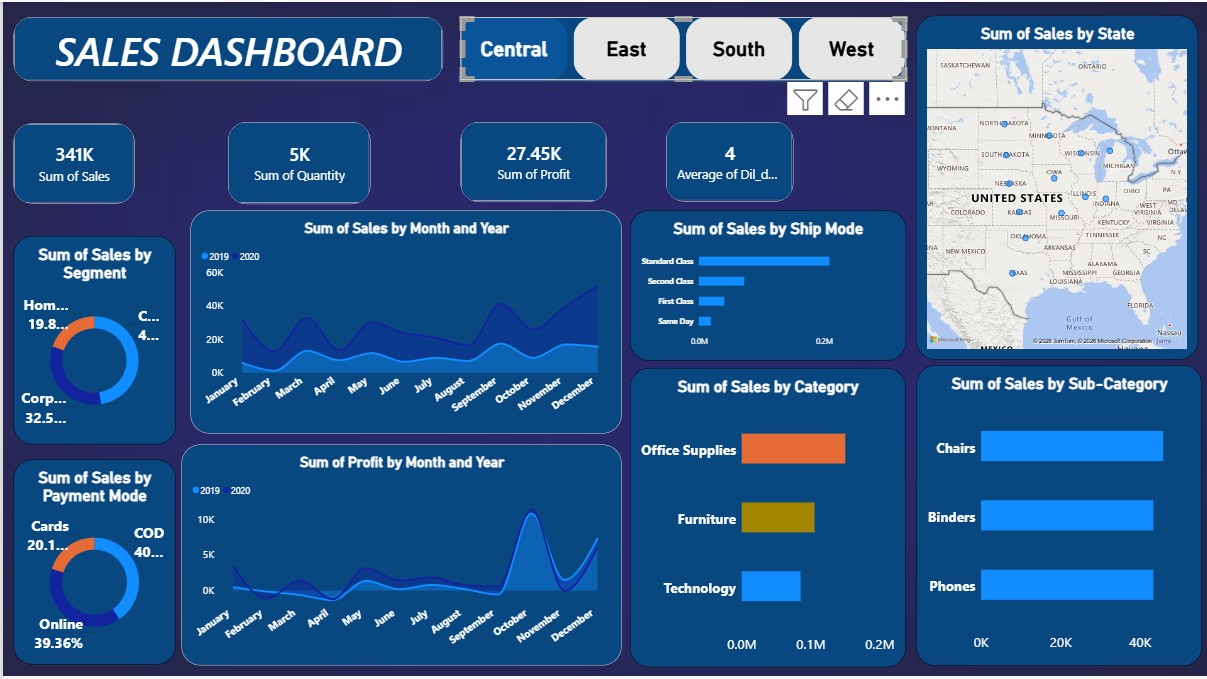

What the dashboard file says about the page in this screenshot:
{"tool":"powerbi","page":{"name":"Page 1","canvas":[1920,1080],"ordinal":0},"visuals":[{"type":"map","title":"Sum of Sales by State","fields":{"Category":["SuperStore_Sales_Dataset (1).State"]},"box":[1452.5,21.8,447.9,547.4],"z":0},{"type":"barChart","fields":{"Category":["SuperStore_Sales_Dataset (1).Sub-Category"],"Y":["Sum(SuperStore_Sales_Dataset (1).Sales)"]},"box":[1452.5,578.5,454.1,479],"z":1000},{"type":"barChart","fields":{"Category":["SuperStore_Sales_Dataset (1).Category"],"Y":["Sum(SuperStore_Sales_Dataset (1).Sales)"]},"box":[998.4,581.6,438.5,475.9],"z":2000},{"type":"barChart","fields":{"Category":["SuperStore_Sales_Dataset (1).Ship Mode"],"Y":["Sum(SuperStore_Sales_Dataset (1).Sales)"]},"box":[997.3,331.6,439,238.6],"z":3000},{"type":"cardVisual","fields":{"Data":["Sum(SuperStore_Sales_Dataset (1).Sales)"]},"box":[17,192.8,192.8,127.5],"z":4000},{"type":"cardVisual","fields":{"Data":["Sum(SuperStore_Sales_Dataset (1).Quantity)"]},"box":[357.2,189.9,226.8,130.4],"z":5000},{"type":"cardVisual","fields":{"Data":["Sum(SuperStore_Sales_Dataset (1).Profit)"]},"box":[728.5,189.9,232.4,127.6],"z":6000},{"type":"donutChart","fields":{"Category":["SuperStore_Sales_Dataset (1).Segment"],"Y":["Sum(SuperStore_Sales_Dataset (1).Sales)"]},"box":[17,371.3,258,331.7],"z":7000},{"type":"stackedAreaChart","title":"Sum of Sales by Month and Year","fields":{"Category":["SuperStore_Sales_Dataset (1).Order Date.Variation.Date Hierarchy.Month"],"Series":["SuperStore_Sales_Dataset (1).Order Date.Variation.Date Hierarchy.Year"],"Y":["Sum(SuperStore_Sales_Dataset (1).Sales)"]},"box":[297.6,331.7,686,354.3],"z":8000},{"type":"donutChart","fields":{"Category":["SuperStore_Sales_Dataset (1).Payment Mode"],"Y":["Sum(SuperStore_Sales_Dataset (1).Sales)"]},"box":[17,728.5,258,326],"z":9000},{"type":"stackedAreaChart","fields":{"Category":["SuperStore_Sales_Dataset (1).Order Date.Variation.Date Hierarchy.Month"],"Series":["SuperStore_Sales_Dataset (1).Order Date.Variation.Date Hierarchy.Year"],"Y":["Sum(SuperStore_Sales_Dataset (1).Profit)"]},"box":[283.5,703,700.2,351.5],"z":10000},{"type":"cardVisual","fields":{"Data":["SuperStore_Sales_Dataset (1).Display_text"]},"box":[17,22.7,683.2,102],"z":11000},{"type":"advancedSlicerVisual","fields":{"Values":["SuperStore_Sales_Dataset (1).Region"]},"box":[728.5,22.7,708.7,102],"z":12000},{"type":"cardVisual","fields":{"Data":["Avg(SuperStore_Sales_Dataset_.Dil_date)"]},"box":[1054.6,190.9,202.8,126.5],"z":12001}]}

Visuals, with their boxes in screenshot pixels (x1, y1, x2, y2), scaled from the page's 1920x1080 canvas onto the 1207x679 screenshot:
"Sum of Sales by State" map: rect(913, 14, 1195, 358)
barChart - SuperStore_Sales_Dataset (1).Sub-Category x Sum(SuperStore_Sales_Dataset (1).Sales): rect(913, 364, 1199, 665)
barChart - SuperStore_Sales_Dataset (1).Category x Sum(SuperStore_Sales_Dataset (1).Sales): rect(628, 366, 903, 665)
barChart - SuperStore_Sales_Dataset (1).Ship Mode x Sum(SuperStore_Sales_Dataset (1).Sales): rect(627, 208, 903, 358)
cardVisual - Sum(SuperStore_Sales_Dataset (1).Sales): rect(11, 121, 132, 201)
cardVisual - Sum(SuperStore_Sales_Dataset (1).Quantity): rect(225, 119, 367, 201)
cardVisual - Sum(SuperStore_Sales_Dataset (1).Profit): rect(458, 119, 604, 200)
donutChart - SuperStore_Sales_Dataset (1).Segment x Sum(SuperStore_Sales_Dataset (1).Sales): rect(11, 233, 173, 442)
"Sum of Sales by Month and Year" stackedAreaChart: rect(187, 209, 618, 431)
donutChart - SuperStore_Sales_Dataset (1).Payment Mode x Sum(SuperStore_Sales_Dataset (1).Sales): rect(11, 458, 173, 663)
stackedAreaChart - SuperStore_Sales_Dataset (1).Order Date.Variation.Date Hierarchy.Month x SuperStore_Sales_Dataset (1).Order Date.Variation.Date Hierarchy.Year: rect(178, 442, 618, 663)
cardVisual - SuperStore_Sales_Dataset (1).Display_text: rect(11, 14, 440, 78)
advancedSlicerVisual - SuperStore_Sales_Dataset (1).Region: rect(458, 14, 903, 78)
cardVisual - Avg(SuperStore_Sales_Dataset_.Dil_date): rect(663, 120, 790, 200)
